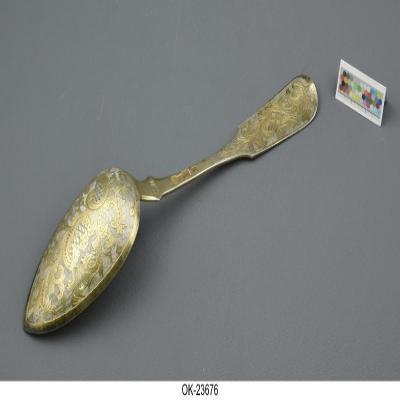dpi: (22, 74, 319, 337)
